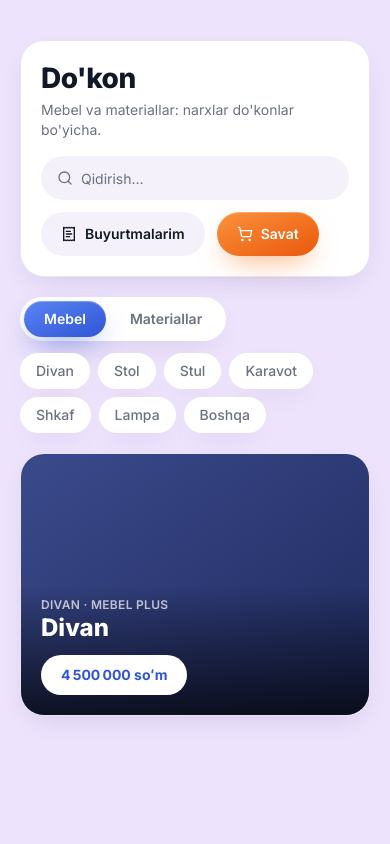
Scenario: DokonPage checkout › sends the order with delivery details and shows what the server answered
Click the button "Divan · Mebel Plus Divan 4 500 000 soʻm": (195, 584) [21,454,369,715]
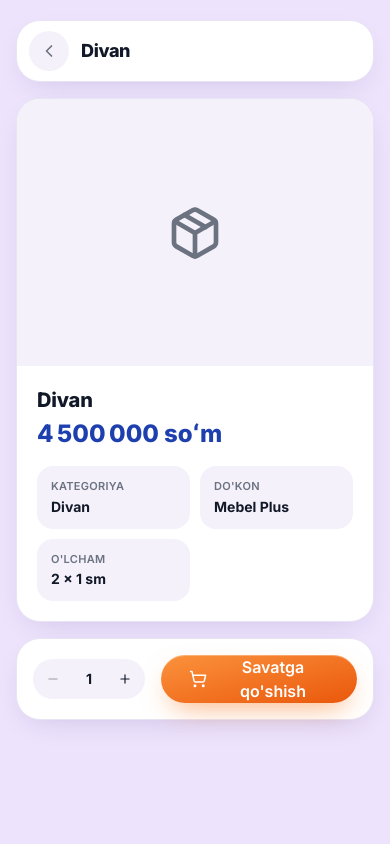
Click the button "Savatga qo'shish": (259, 679) [161,655,357,703]
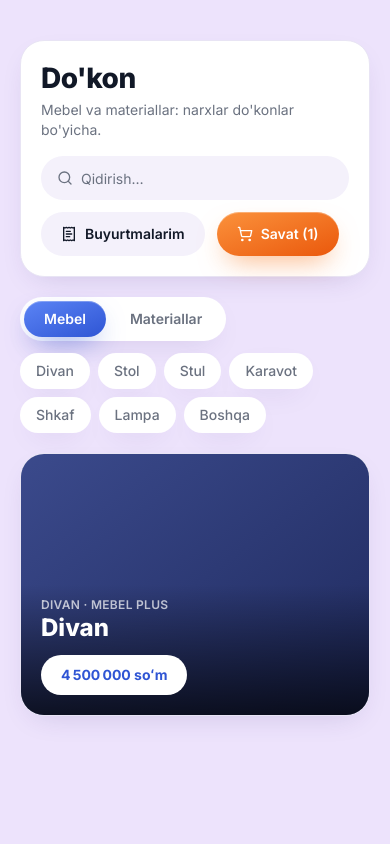
Click the button "Savat (1)": (278, 234) [217,212,338,256]
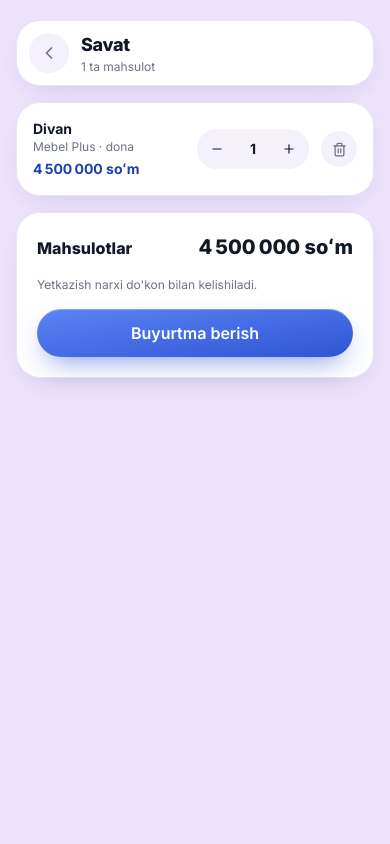
Click the button "Buyurtma berish": (195, 333) [37,309,353,357]
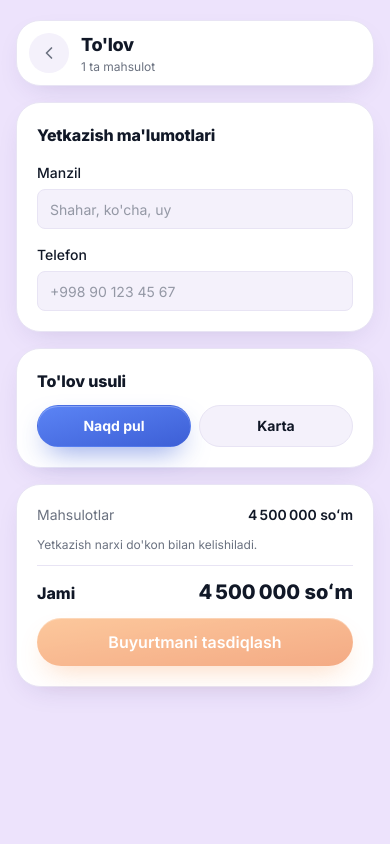
In the field labelled "Manzil": (195, 209) [37,189,353,229], type "Chilonzor 5"
In the field labelled "Telefon": (195, 291) [37,271,353,311], type "+998901234567"
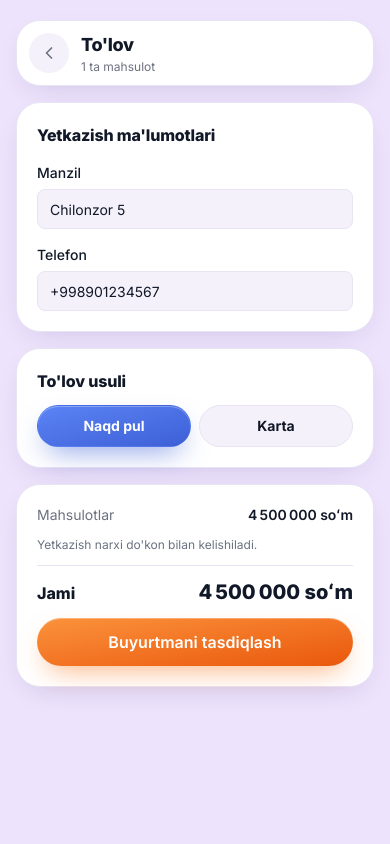
Click the button "Buyurtmani tasdiqlash": (195, 642) [37,618,353,666]
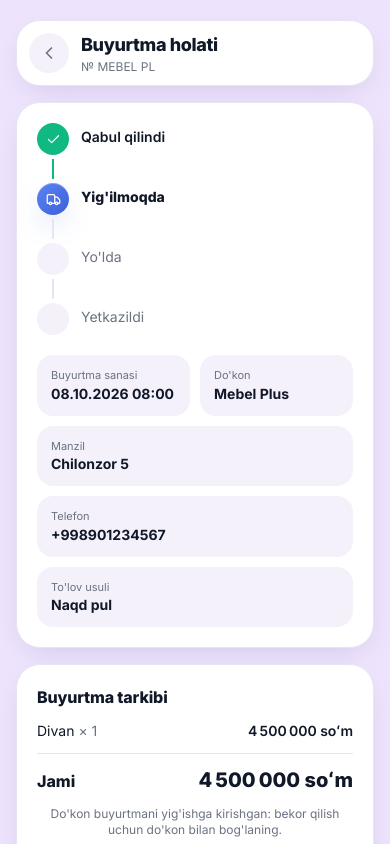
Now the text "Chilonzor 5" is shown, box [51,455,129,472]
